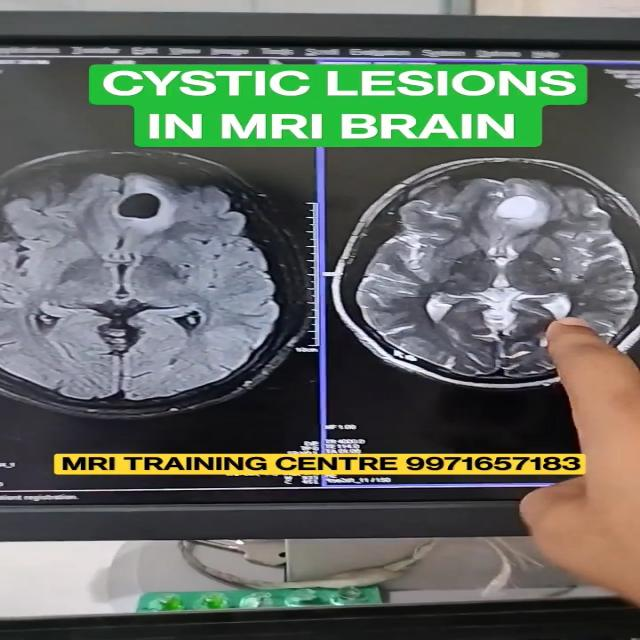tumor: (475, 184, 578, 233), (92, 179, 202, 221)
